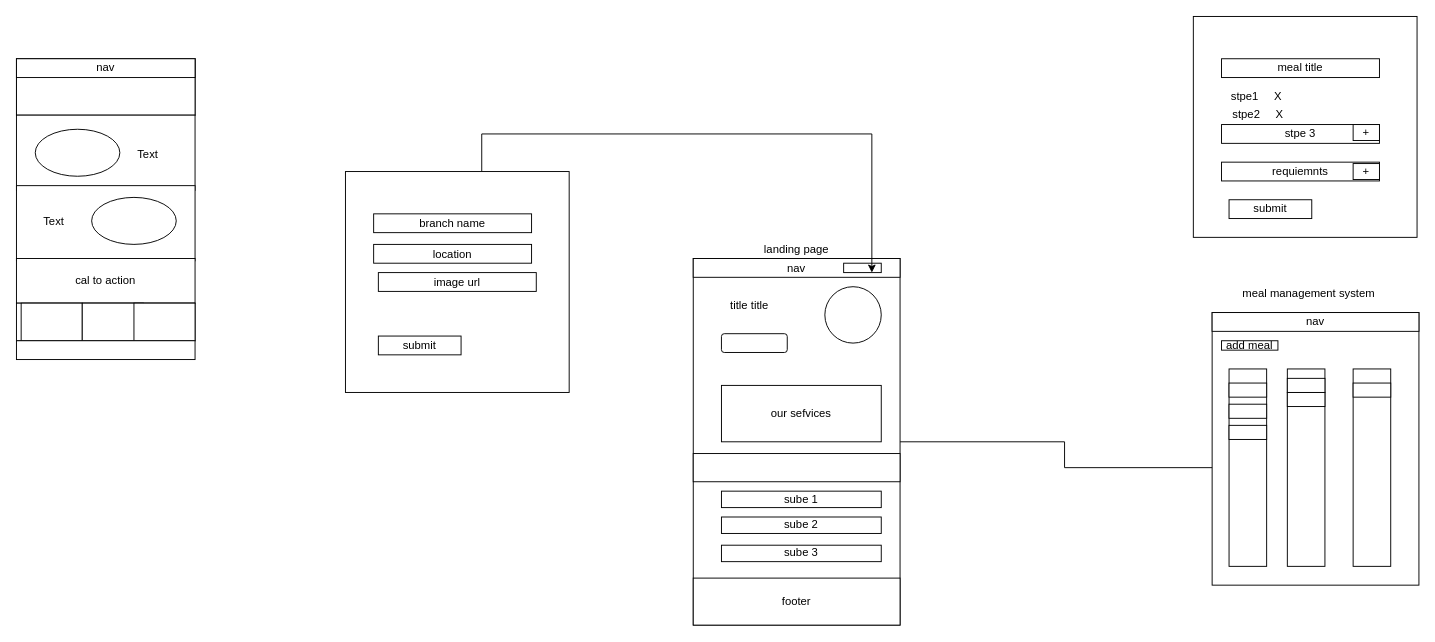
This 1435x642 diagram has some shape labels left out. The box of each missing label's shape, as (x1, y1, x2, y2) in pixels:
news ltter: (692, 453, 900, 482)
start: (721, 333, 787, 352)
